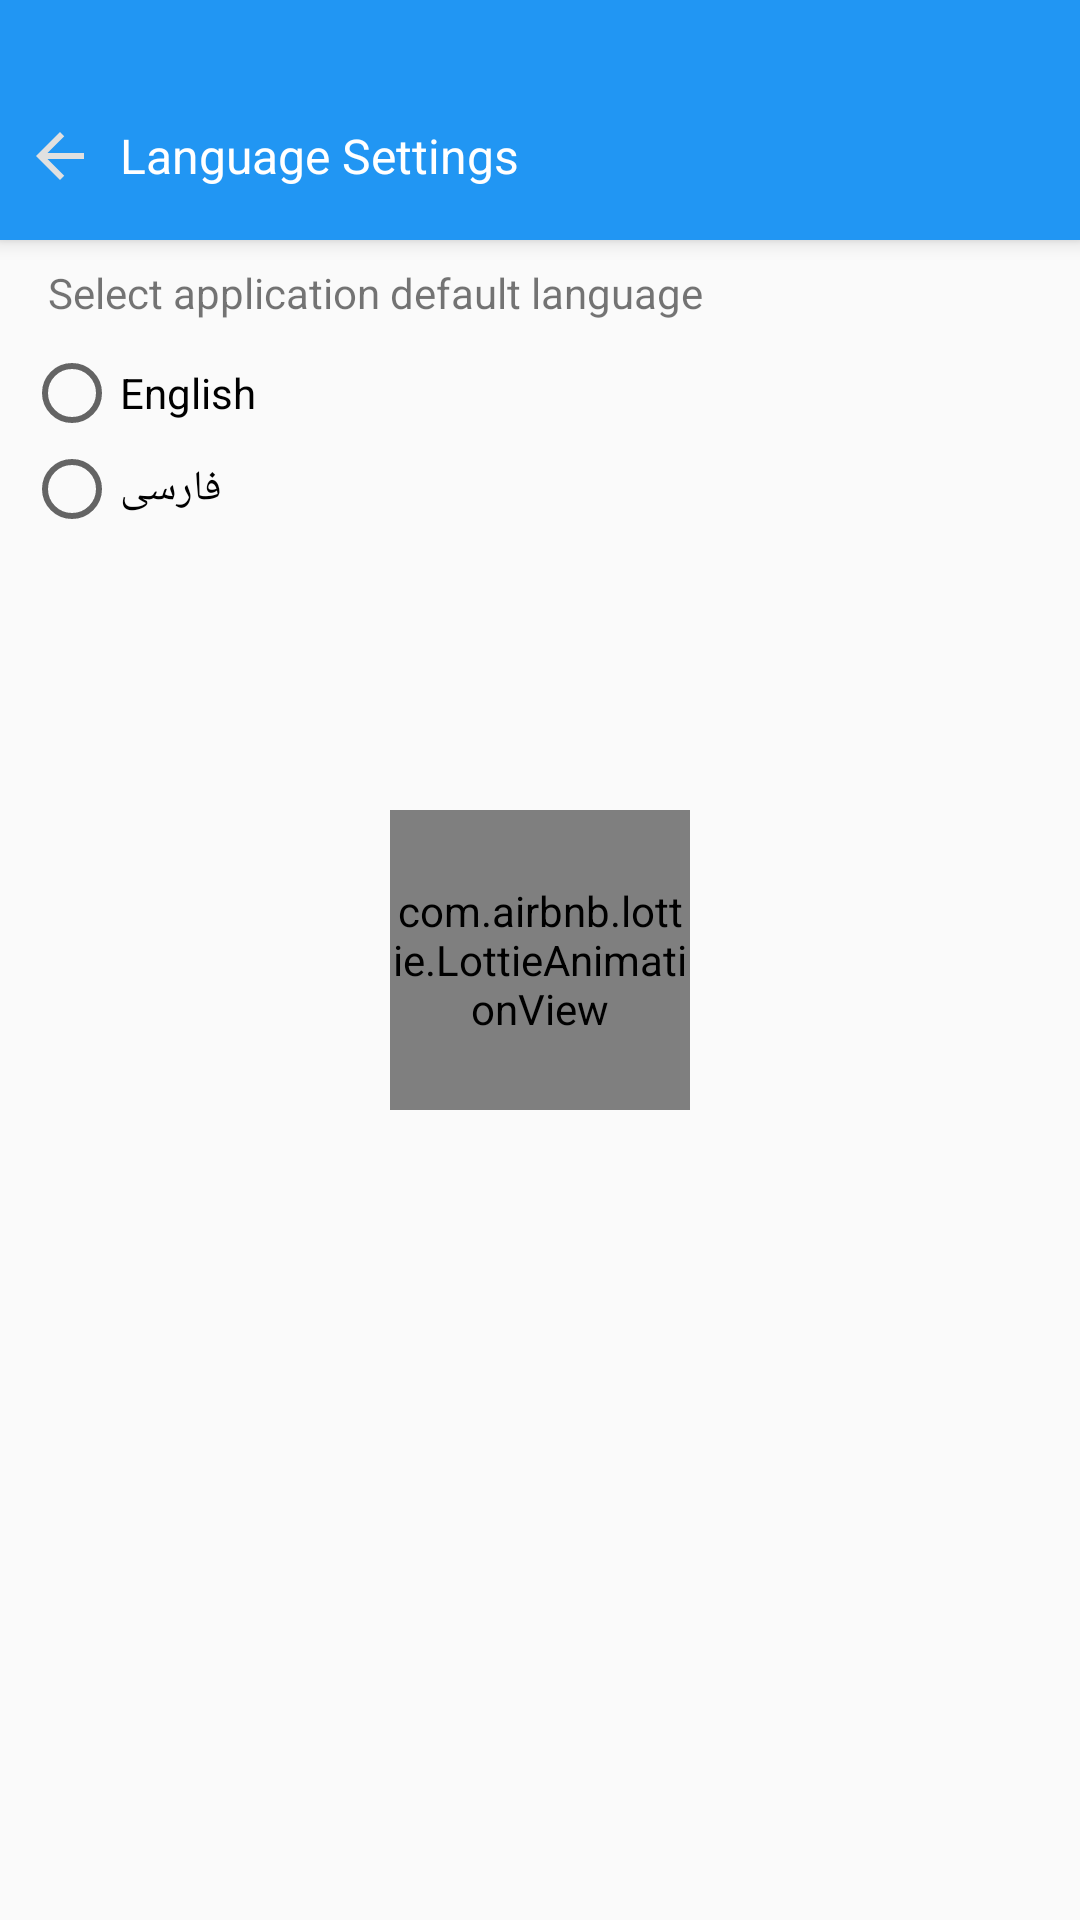

Screen size 1080 × 1920. Icon name, then its box in pixels as (x1, y1, x2, y2):
arrow back: (36, 132, 84, 180)
